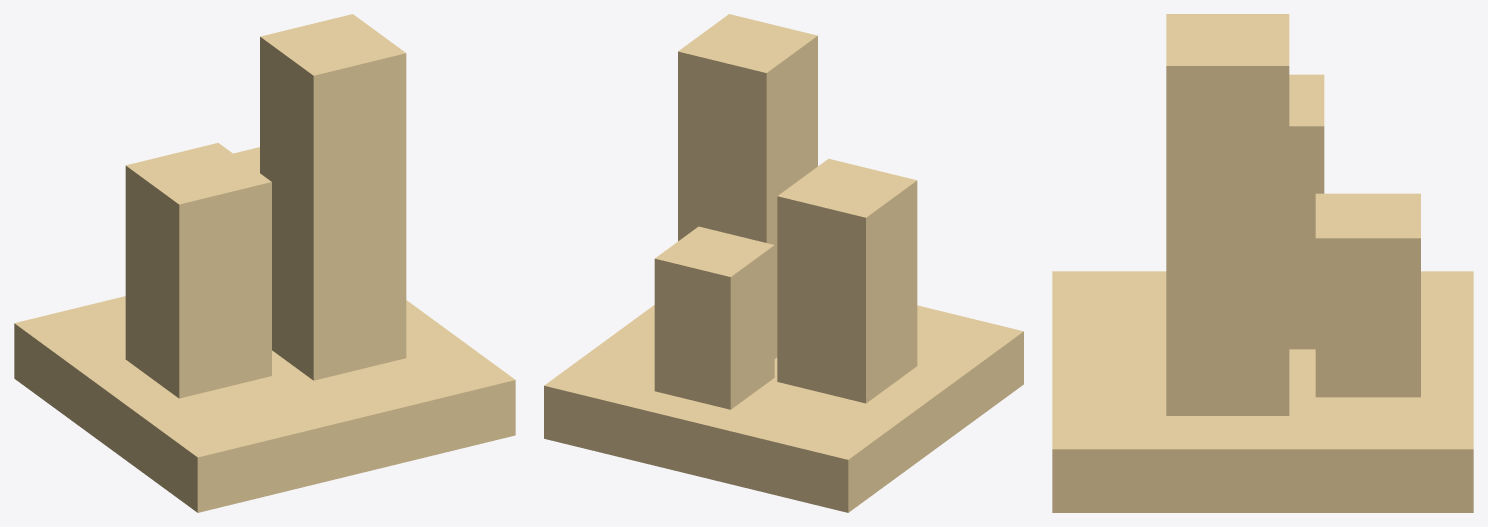
Rendered from resource.gltf.
3 renders of one model, left to right at view 1: azimuth 30°, elevation 25°; view 2: azimuth 150°, elevation 25°; view 3: azimuth 270°, elevation 25°, orthographic. The views are drawn at different scales.
Visible parts, largest first — view 1: resource; view 2: resource; view 3: resource.
Boxes of the visible parts, x1=… form: resource: x1=14, y1=14, x2=515, y2=512; resource: x1=544, y1=14, x2=1023, y2=512; resource: x1=1052, y1=14, x2=1473, y2=512.
Bounding box in the file's own units: 1.2 × 1.3 × 1.2.
